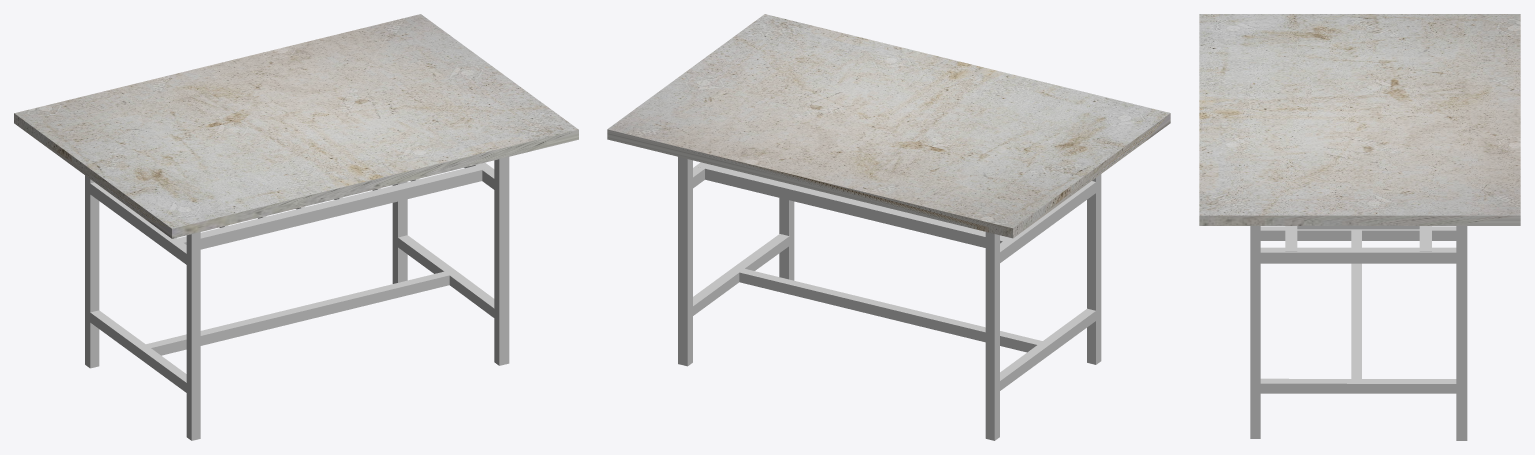
The model's file is table3.fbx.
The picture shows the model from 3 angles, left to right: view 1: azimuth 30°, elevation 25°; view 2: azimuth 150°, elevation 25°; view 3: azimuth 270°, elevation 25°; orthographic projection.
Parts seen in each view (by area): view 1: Cube.002; view 2: Cube.002; view 3: Cube.002.
Part boxes in pixels (x1,y1,x2,y2): Cube.002: (14,14,578,440); Cube.002: (607,14,1170,440); Cube.002: (1199,14,1520,440).
Bounding box in the file's own units: 9057 × 5179 × 6092.
